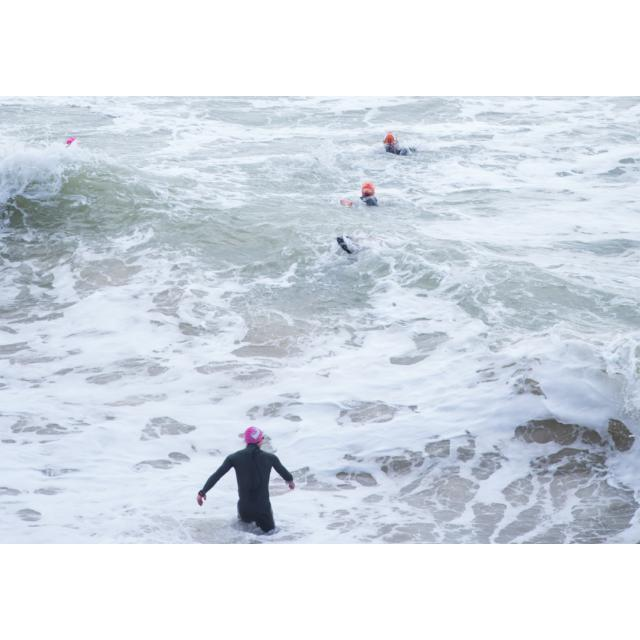human: (197, 426, 296, 536), (341, 180, 381, 216), (379, 131, 417, 154)
